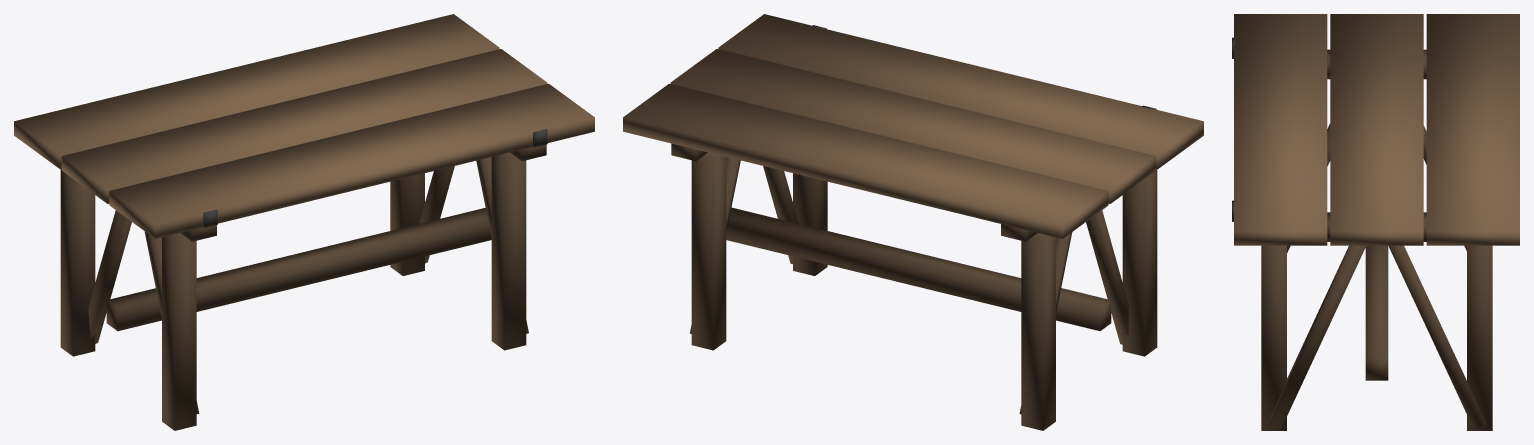
The model's file is mueble-mesa.glb.
3 views of the same model, side by side, from view 1: azimuth 30°, elevation 25°; view 2: azimuth 150°, elevation 25°; view 3: azimuth 270°, elevation 25° (orthographic).
Visible parts, largest first — view 1: Mueble_mesa; view 2: Mueble_mesa; view 3: Mueble_mesa.
Boxes of the visible parts, <box> form: Mueble_mesa: <box>14,14,594,430</box>; Mueble_mesa: <box>623,14,1203,430</box>; Mueble_mesa: <box>1232,14,1519,430</box>.
Size of the model in its own units: 1.6 by 0.78 by 0.896.
